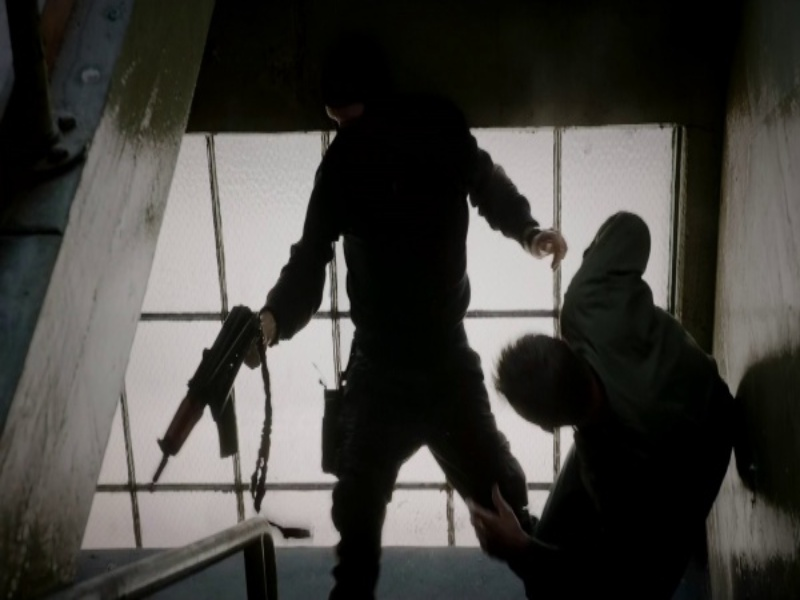person: (257, 35, 556, 578), (466, 221, 736, 595)
weapon: (147, 299, 268, 496)
